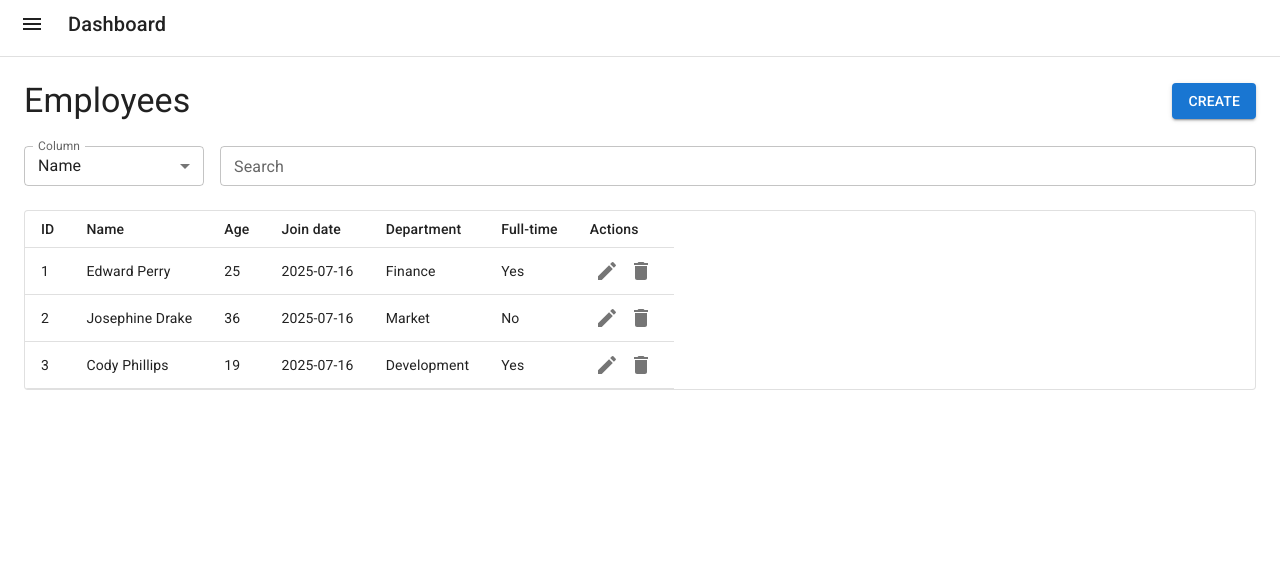
routes › 行をクリックすると詳細を表示する
Click the cell "Edward Perry" at [139, 271], box [70,248,208,294]
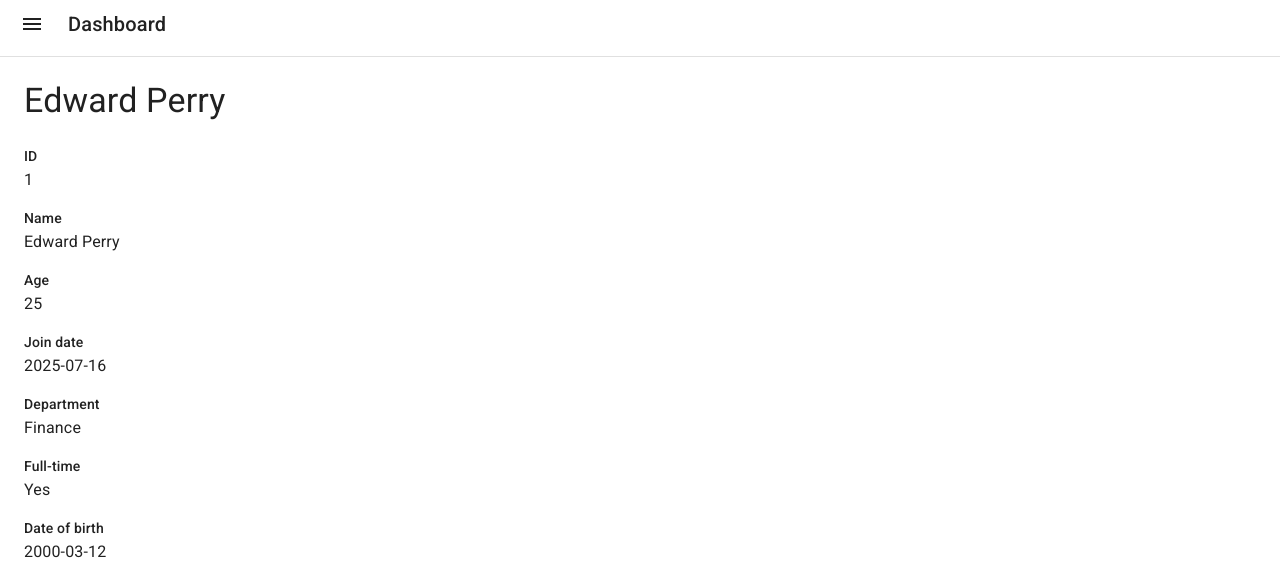
Expected: the heading "Edward Perry" is shown, [24,80,226,120]
Expected: the text "Date of birth" is shown, [24,520,104,536]
Expected: the text "2000-03-12" is shown, [24,542,106,561]
